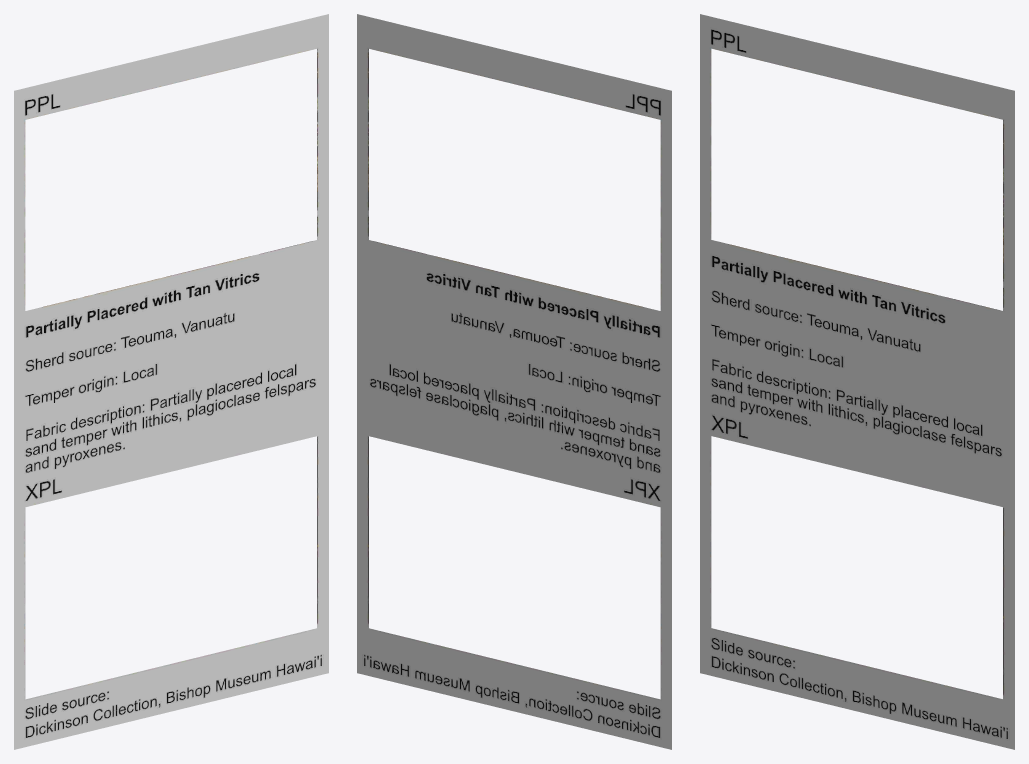
File: wd_44_7_frame.glb
3 views of the same model, side by side, from view 1: azimuth 30°, elevation 25°; view 2: azimuth 150°, elevation 25°; view 3: azimuth 330°, elevation 25° (orthographic).
Parts seen in each view (by area): view 1: WD_44_7; view 2: WD_44_7; view 3: WD_44_7.
Boxes of the visible parts, x1,y1,x2,y2 form: WD_44_7: [14, 14, 328, 749]; WD_44_7: [357, 14, 671, 749]; WD_44_7: [700, 14, 1014, 749].
Size of the model in its own units: 0.5 by 1 by 4.37e-08.
Materials: 1 (1 with a texture image).
